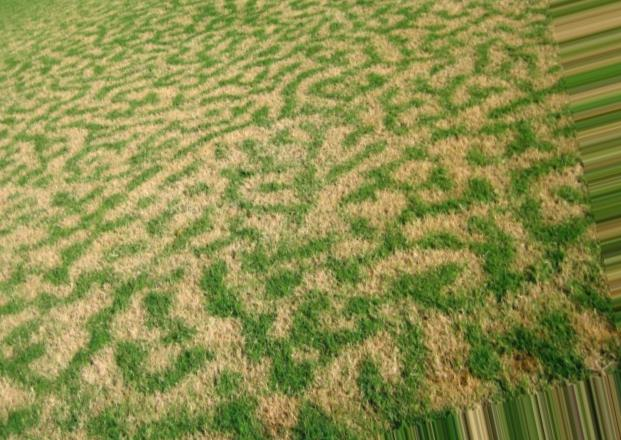patch: (51, 190, 195, 261), (68, 91, 174, 165), (419, 54, 498, 93), (304, 364, 367, 402), (204, 328, 266, 366), (160, 280, 208, 322), (413, 318, 452, 364), (51, 308, 83, 356), (9, 167, 42, 206), (390, 250, 438, 271), (374, 132, 403, 166), (373, 332, 403, 361), (314, 204, 342, 231), (416, 218, 465, 231), (374, 31, 397, 57), (291, 264, 325, 280), (372, 198, 396, 215), (194, 168, 218, 184), (325, 132, 339, 157)
